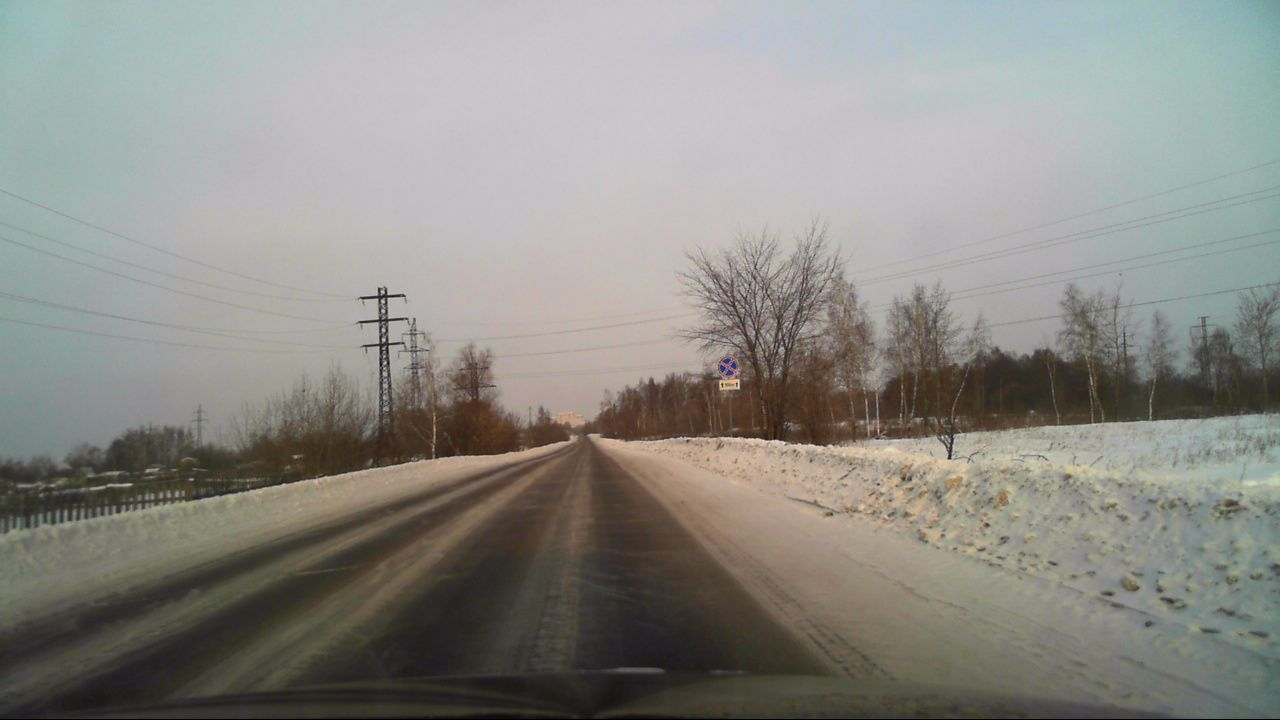No Parking: (717, 354, 739, 378)
